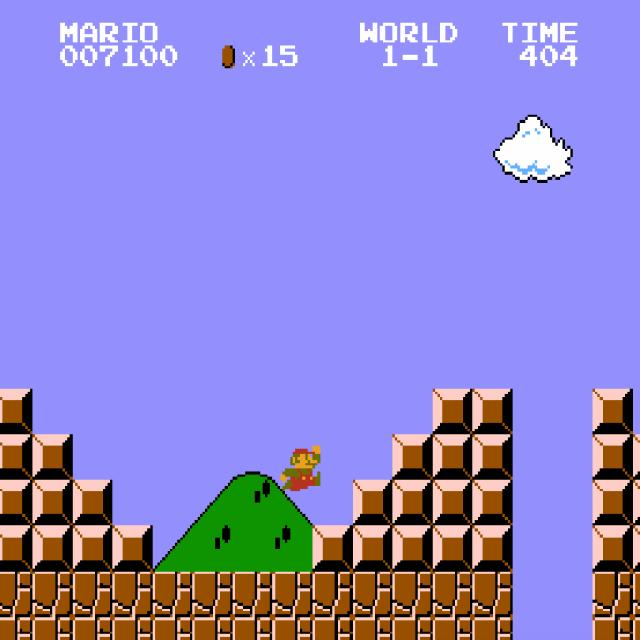hard_block: (32, 434, 73, 480), (32, 480, 73, 526), (72, 480, 113, 526), (352, 480, 393, 526), (392, 434, 433, 480), (392, 480, 433, 526), (432, 434, 473, 480), (432, 480, 473, 526), (472, 434, 513, 480), (472, 480, 513, 526), (592, 434, 633, 480), (592, 480, 633, 526), (32, 526, 73, 571), (72, 526, 113, 571), (112, 526, 153, 571), (312, 526, 353, 571), (352, 526, 393, 571), (392, 526, 433, 571), (432, 389, 473, 434), (432, 526, 473, 571), (472, 389, 513, 434), (472, 526, 513, 571), (592, 389, 633, 434), (592, 526, 633, 571), (0, 388, 32, 434), (0, 525, 32, 571), (0, 434, 32, 479), (0, 480, 32, 525), (633, 434, 640, 480), (633, 480, 640, 526), (633, 526, 640, 571)
little_mario: (277, 443, 320, 492)
undestructible_block: (32, 572, 73, 617), (72, 572, 113, 617), (112, 572, 153, 617), (152, 572, 193, 617), (192, 572, 233, 617), (232, 572, 273, 617), (272, 572, 313, 617), (312, 572, 353, 617), (352, 572, 393, 617), (392, 572, 433, 617), (432, 572, 473, 617), (472, 572, 513, 617), (592, 572, 633, 617), (0, 571, 32, 617), (32, 617, 73, 640), (72, 617, 113, 640), (112, 617, 153, 640), (152, 617, 193, 640), (192, 617, 233, 640), (232, 617, 273, 640), (272, 617, 313, 640), (312, 617, 353, 640), (352, 617, 393, 640), (392, 617, 433, 640), (432, 617, 473, 640), (472, 617, 513, 640), (592, 617, 633, 640), (0, 617, 32, 639), (633, 572, 640, 617), (633, 617, 640, 640)
